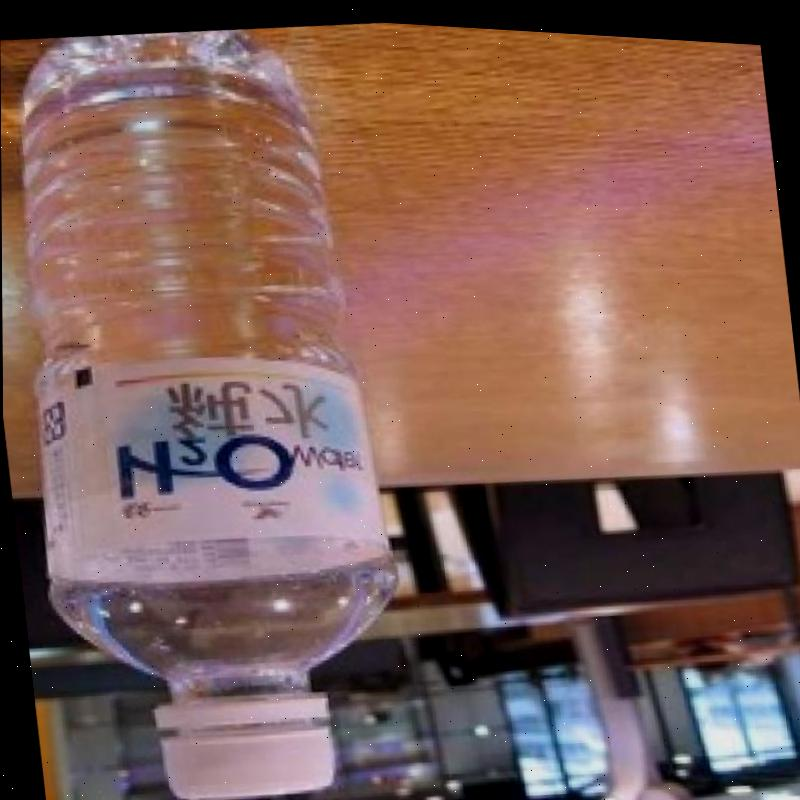botella: (0, 4, 423, 800)
